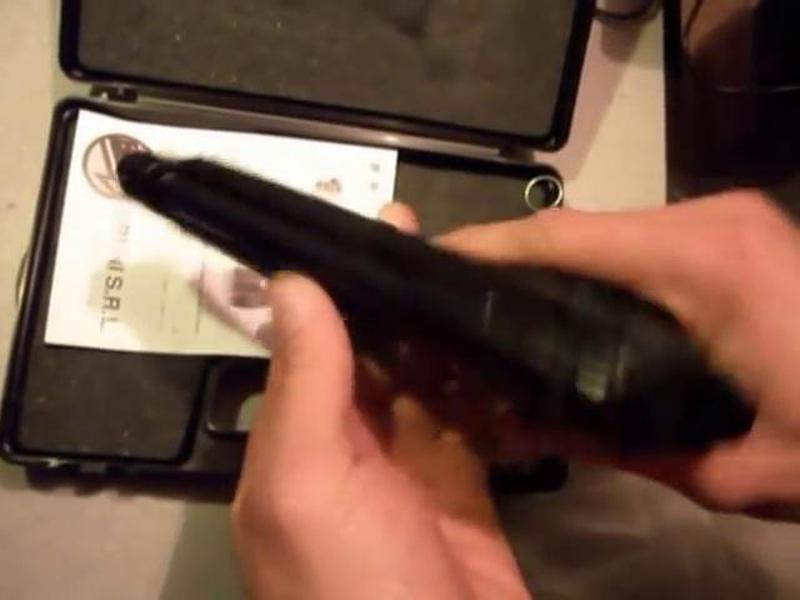Pistola: (90, 132, 757, 460)
